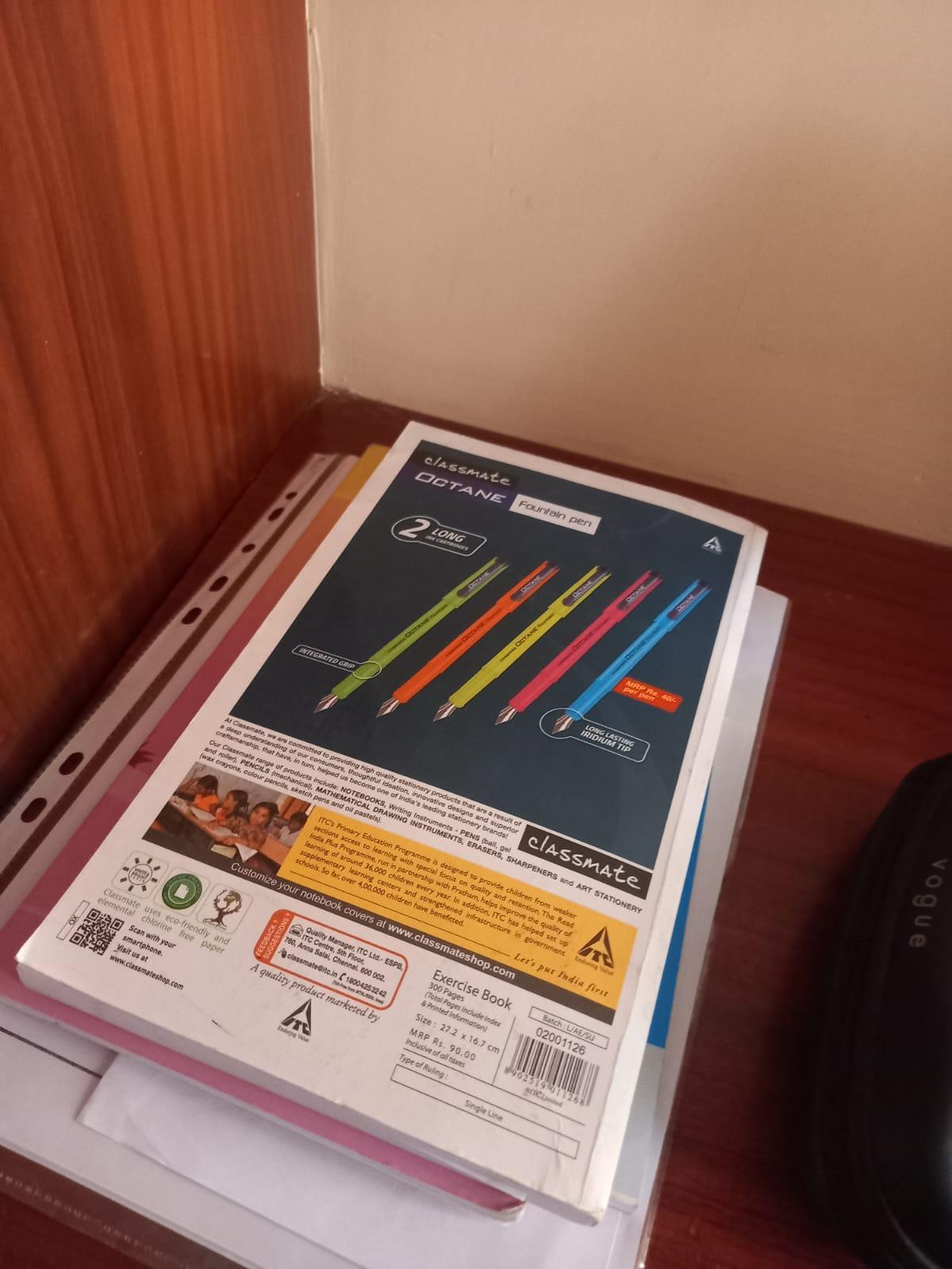notebooks: (236, 429, 745, 1161)
